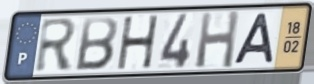4: (158, 12, 193, 71)
A: (231, 12, 276, 67)
B: (72, 15, 120, 72)
H: (193, 9, 241, 71), (116, 13, 161, 72)
R: (34, 16, 80, 75)
